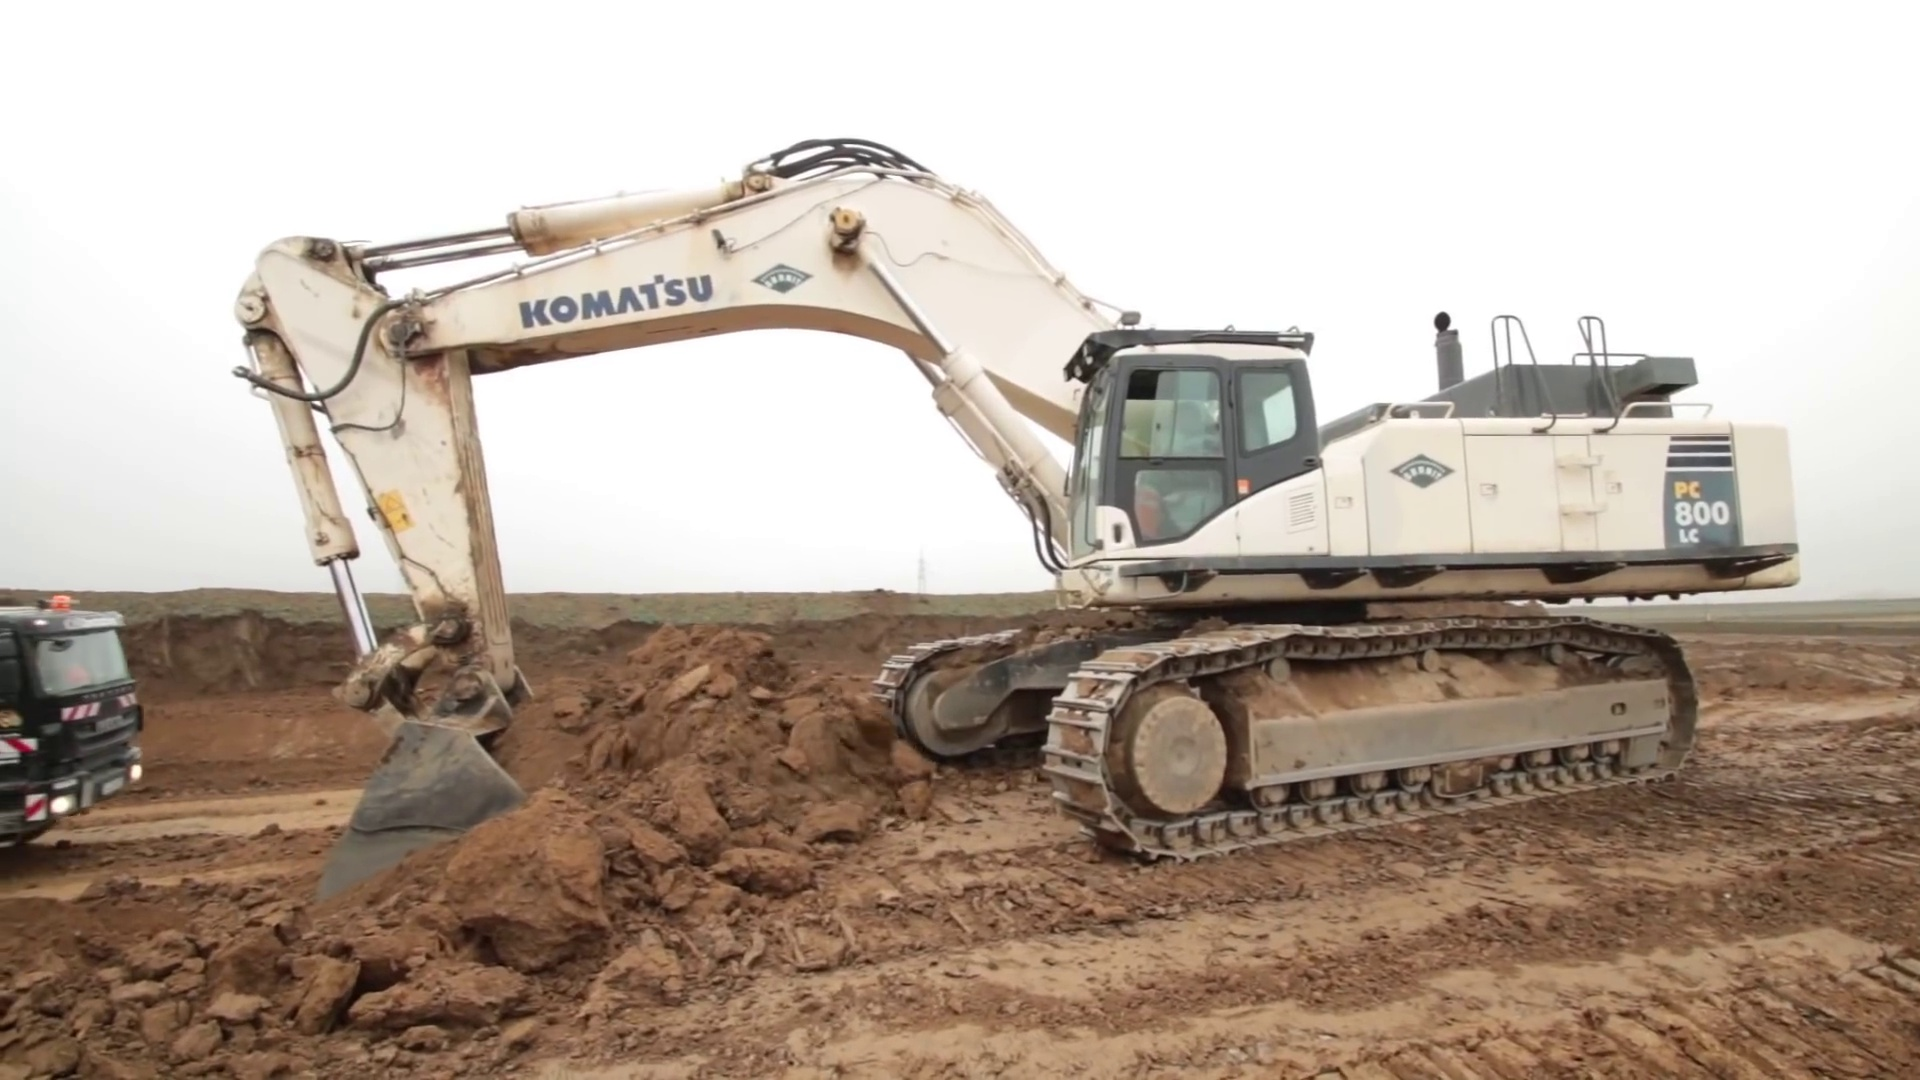excavator: (235, 138, 1807, 866)
truck: (9, 589, 146, 855)
